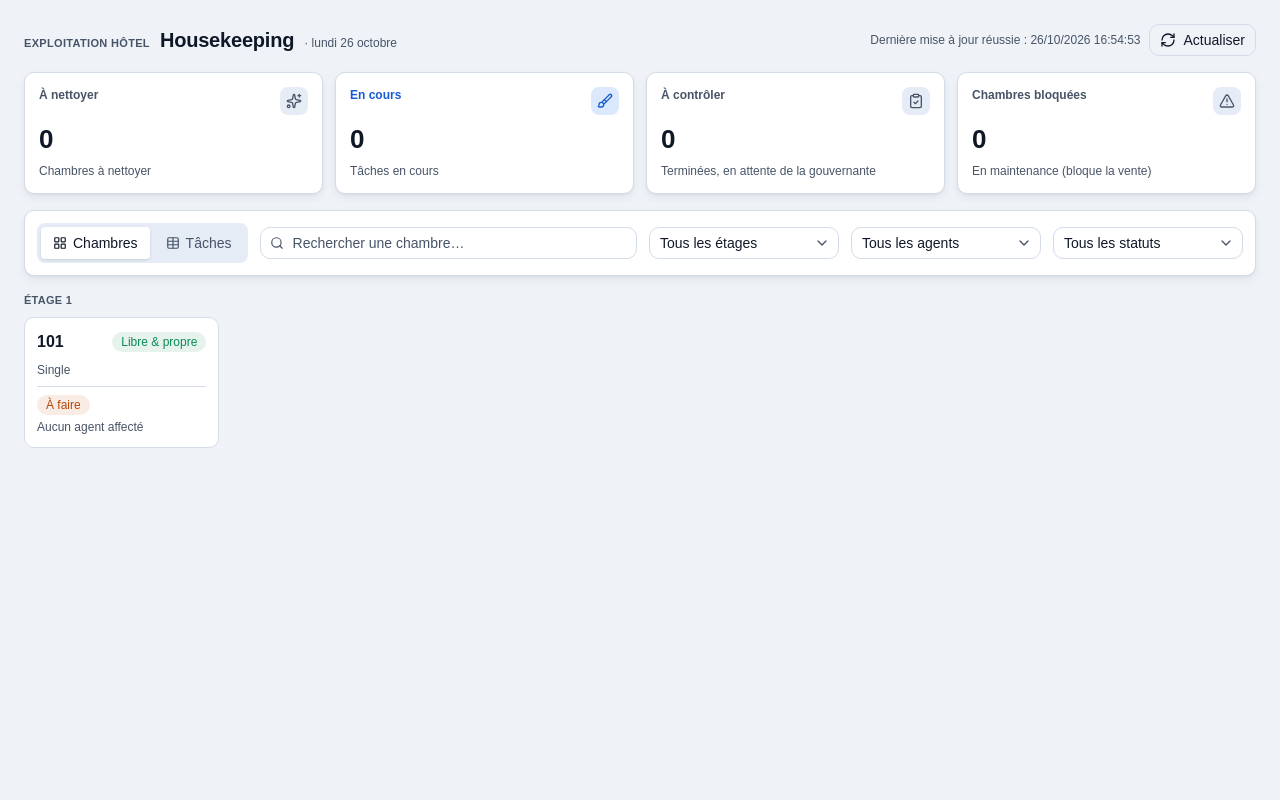
Test: HousekeepingPage — RoomContextModal et historique › ouvre l’historique d’une tâche
Check: the text "101" is shown, box [37,330,64,354]
Click the tab "Tâches".
click(199, 243)  # box [154,227,244,259]
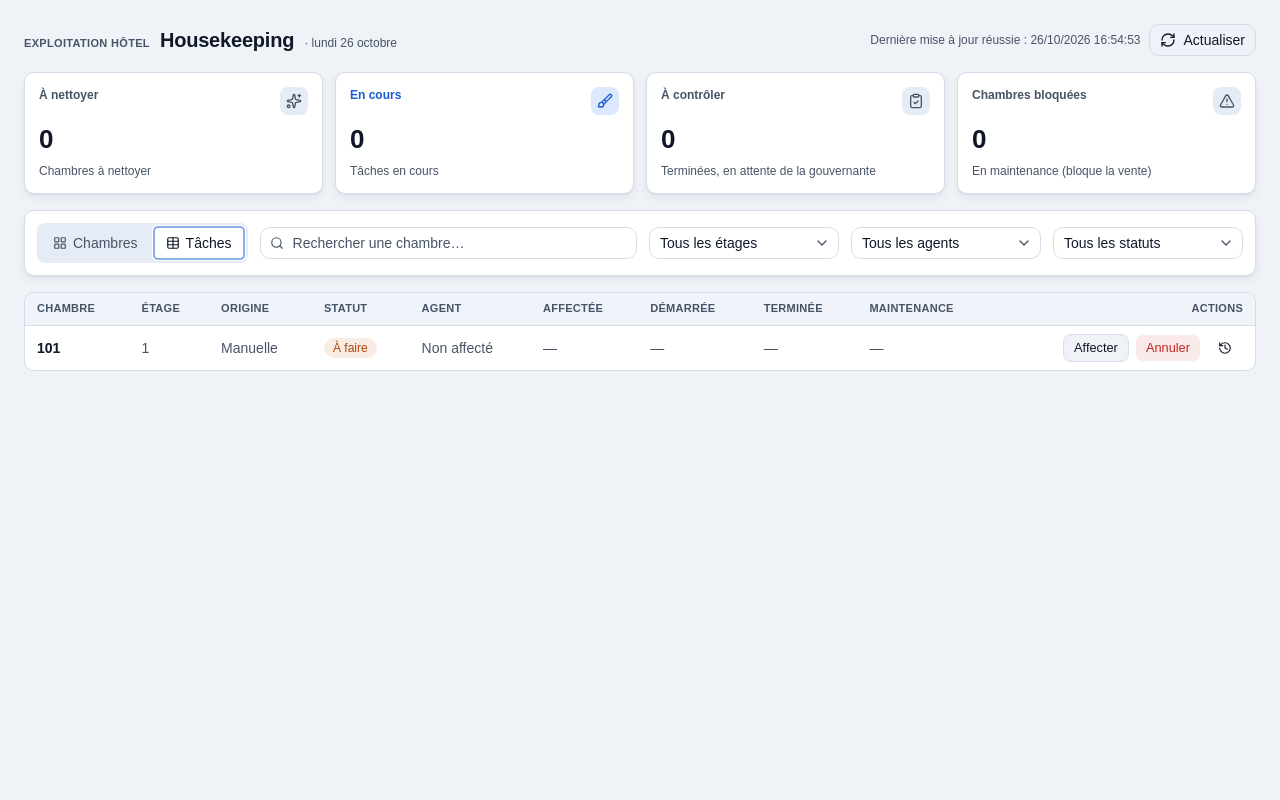
Click the button named "Historique de la tâche — chambre 101".
click(1225, 348)  # box [1207,334,1243,362]
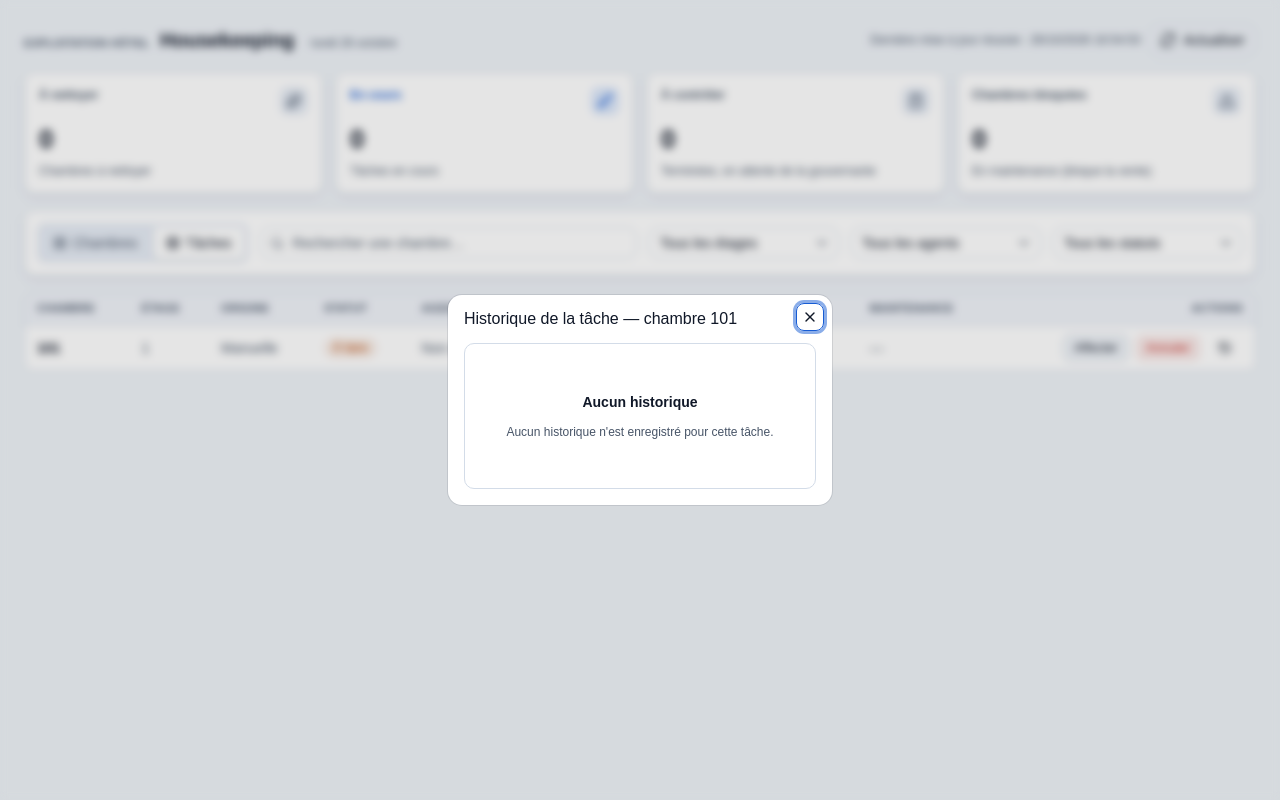
Check: the heading "Historique de la tâche — chambre 101" is shown, box [464,310,737,327]
